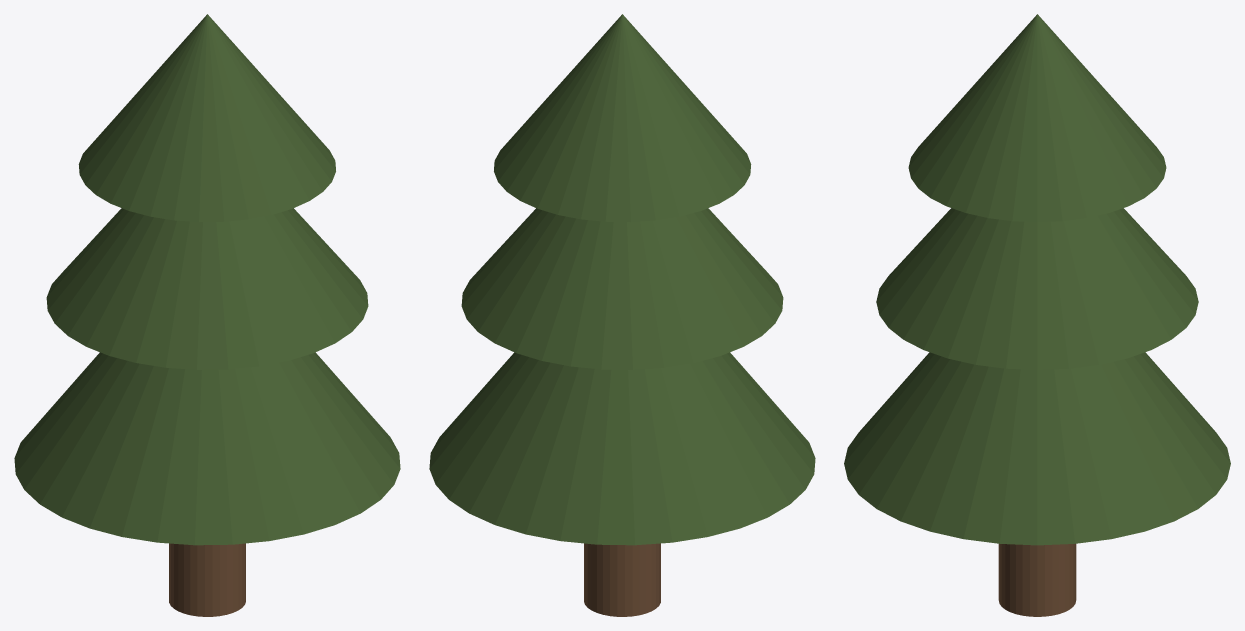
The model's file is tree3.obj.
3 renders of one model, left to right at view 1: azimuth 30°, elevation 25°; view 2: azimuth 150°, elevation 25°; view 3: azimuth 270°, elevation 25°, orthographic.
Visible parts, largest first — view 1: Cone.002, Cone.001, Cone, Cylinder; view 2: Cone.002, Cone.001, Cone, Cylinder; view 3: Cone.002, Cone.001, Cone, Cylinder.
Boxes of the visible parts, x1,y1,x2,y2 form: Cone.002: (14,352,400,545); Cone.001: (46,208,368,369); Cone: (78,14,335,222); Cylinder: (169,543,245,616); Cone.002: (429,352,815,545); Cone.001: (461,208,783,369); Cone: (494,14,751,222); Cylinder: (584,543,660,616); Cone.002: (844,352,1230,545); Cone.001: (876,208,1198,369); Cone: (908,14,1166,222); Cylinder: (998,543,1076,616).
Size of the model in its own units: 6 by 10.04 by 6.
